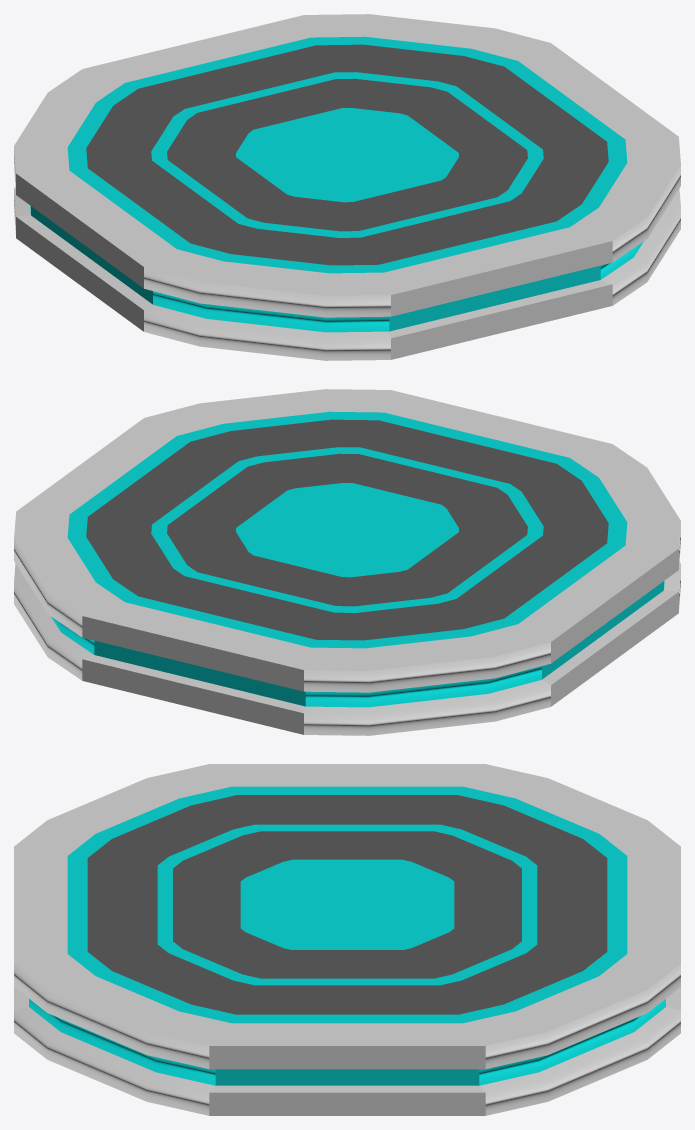
File: Item_Platform_Futuristic.fbx
3 renders of one model, top to bottom at view 1: azimuth 30°, elevation 25°; view 2: azimuth 150°, elevation 25°; view 3: azimuth 270°, elevation 25°, orthographic. The views are drawn at different scales.
Parts seen in each view (by area): view 1: Platform Futuristic; view 2: Platform Futuristic; view 3: Platform Futuristic.
Part boxes in pixels (x1,y1,x2,y2): Platform Futuristic: (14, 14, 680, 360); Platform Futuristic: (14, 389, 680, 735); Platform Futuristic: (14, 764, 680, 1115).
Bounding box in the file's own units: 425 × 49.21 × 425.
